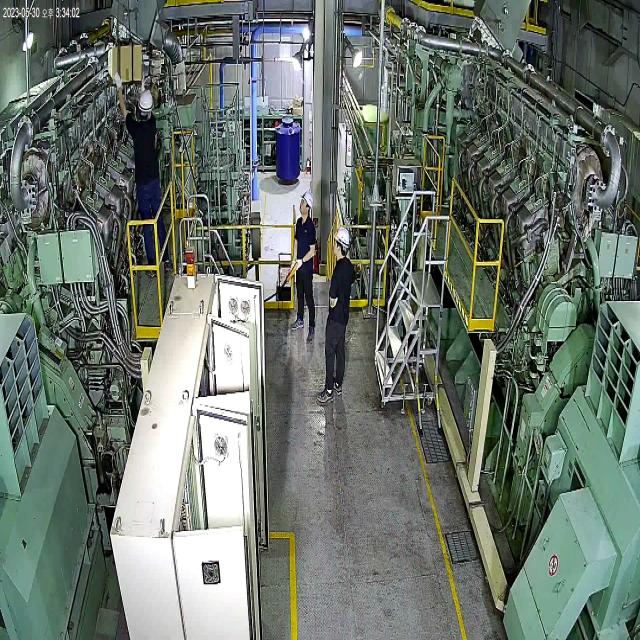Water Tank: (272, 109, 305, 188)
worker: (111, 68, 177, 282), (316, 219, 357, 405), (286, 185, 318, 358)
